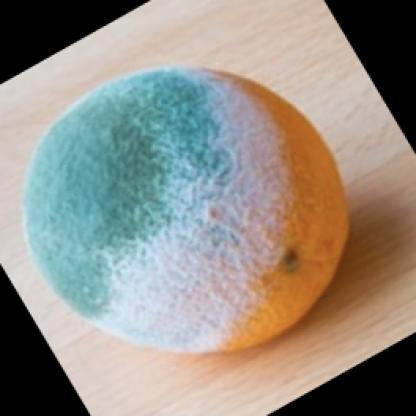rotten: (26, 67, 352, 357)
